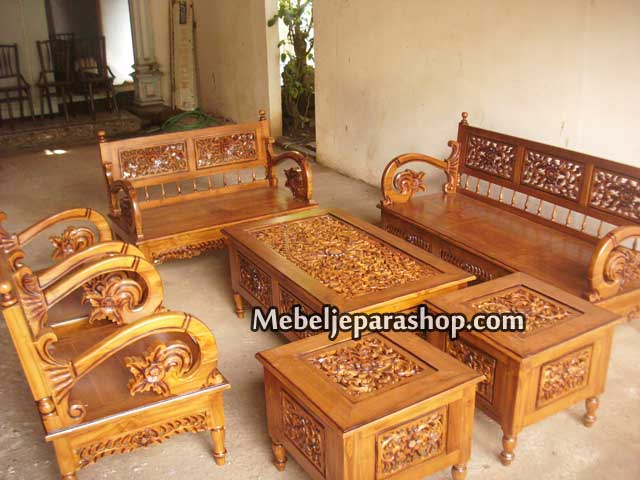Carving Chair: (2, 213, 230, 471), (379, 111, 640, 319), (90, 122, 326, 249)
